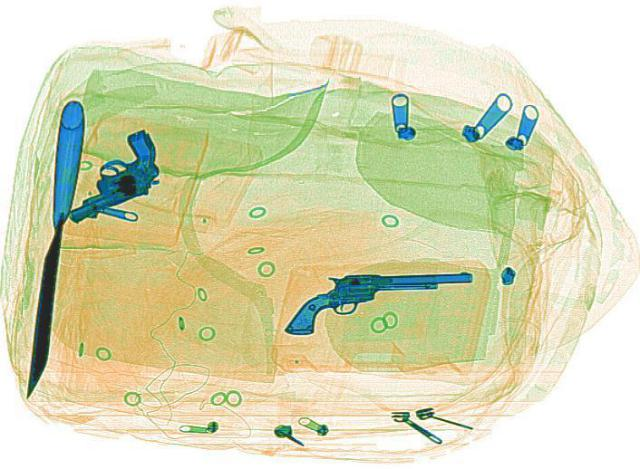Gun: (31, 128, 185, 221), (280, 270, 472, 332)
Knife: (14, 99, 88, 396)
